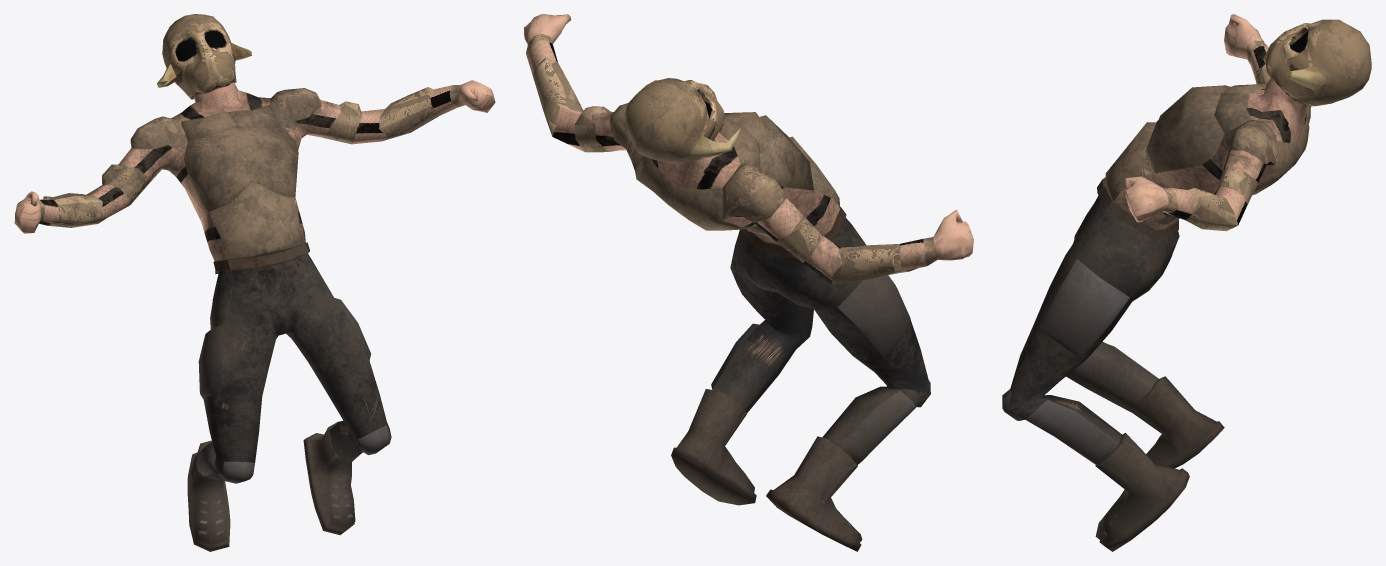
Rendered from Anim_morir_npc1.0019.obj.
3 views of the same model, side by side, from view 1: azimuth 30°, elevation 25°; view 2: azimuth 150°, elevation 25°; view 3: azimuth 270°, elevation 25° (orthographic). The views are drawn at different scales.
Visible parts, largest first — view 1: NPC2; view 2: NPC2; view 3: NPC2.
Boxes of the visible parts, x1,y1,x2,y2 form: NPC2: [14, 14, 495, 551]; NPC2: [524, 14, 973, 551]; NPC2: [1002, 14, 1371, 551].
Size of the model in its own units: 7.48 by 7.48 by 4.99.
